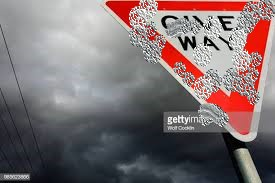giveway: (103, 1, 273, 142), (152, 1, 271, 101), (202, 2, 275, 123), (129, 1, 270, 60)
